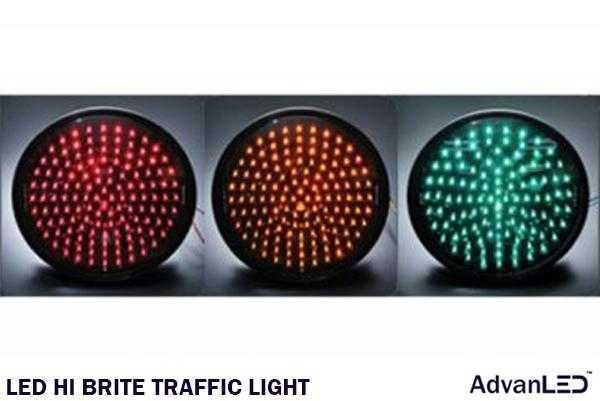5: (20, 106, 189, 280)
9: (222, 105, 378, 281)
red traffic light: (411, 105, 580, 283)
